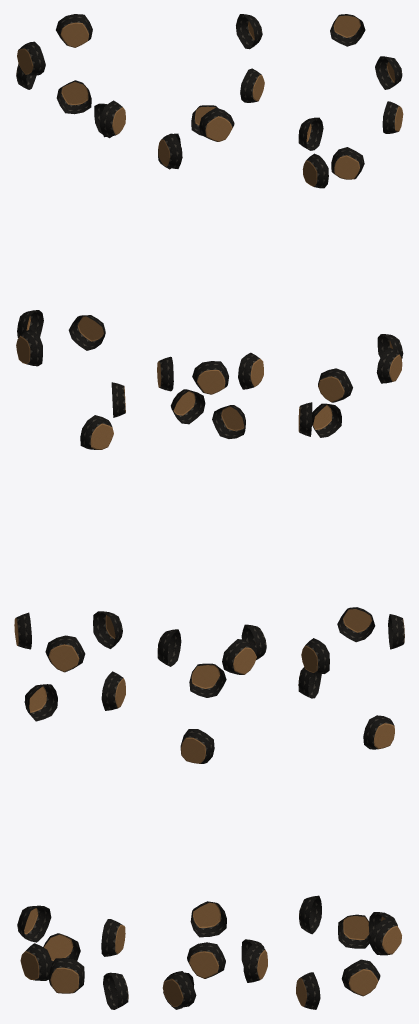
The model's file is Sitka_Mature_02_HighPruned_Recent_LOD2.fbx.
The picture shows the model from 3 angles, left to right: view 1: azimuth 90°, elevation 25°; view 2: azimuth 210°, elevation 25°; view 3: azimuth 270°, elevation 25°; orthographic projection. The views are drawn at different scales.
Visible parts, largest first — view 1: Sitka_Mature_02_HighPruned_Recent_LOD2_Scars; view 2: Sitka_Mature_02_HighPruned_Recent_LOD2_Scars; view 3: Sitka_Mature_02_HighPruned_Recent_LOD2_Scars.
Boxes of the visible parts, x1,y1,x2,y2 form: Sitka_Mature_02_HighPruned_Recent_LOD2_Scars: [14, 14, 128, 1009]; Sitka_Mature_02_HighPruned_Recent_LOD2_Scars: [157, 14, 267, 1009]; Sitka_Mature_02_HighPruned_Recent_LOD2_Scars: [296, 14, 404, 1009].
Size of what is drawn, in the model's own units: 35.02 by 347 by 35.26.
Materials: 2 (2 with a texture image).
